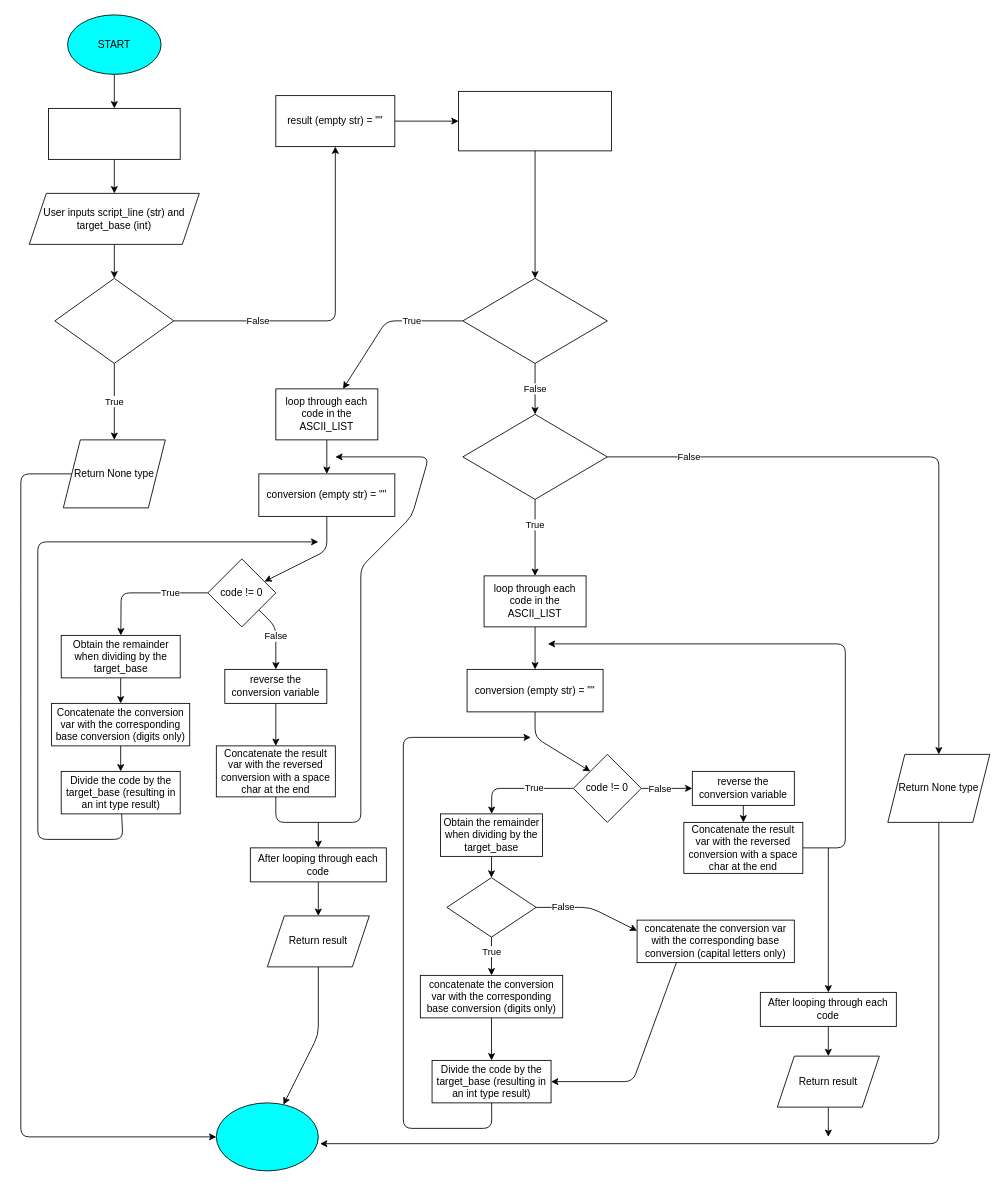
Some shapes in this 1005 by 1186 pixel diagram are drawn without their labels. Each missing label, with the centre of its shape:
"10 <= target_base <= 36" belongs at pixel 534 456.
"2 <= target_base <= 9" belongs at pixel 534 320.
"ASCII_LIST (list of str) = [ord(char) for char in script_line]" belongs at pixel 535 121.
"END" belongs at pixel 266 1136.
"if not (script_line or target_base)" belongs at pixel 114 320.
"Import the module 'string' to acess key-values of conversions" belongs at pixel 114 133.
"remainder <= 9" belongs at pixel 491 907.
